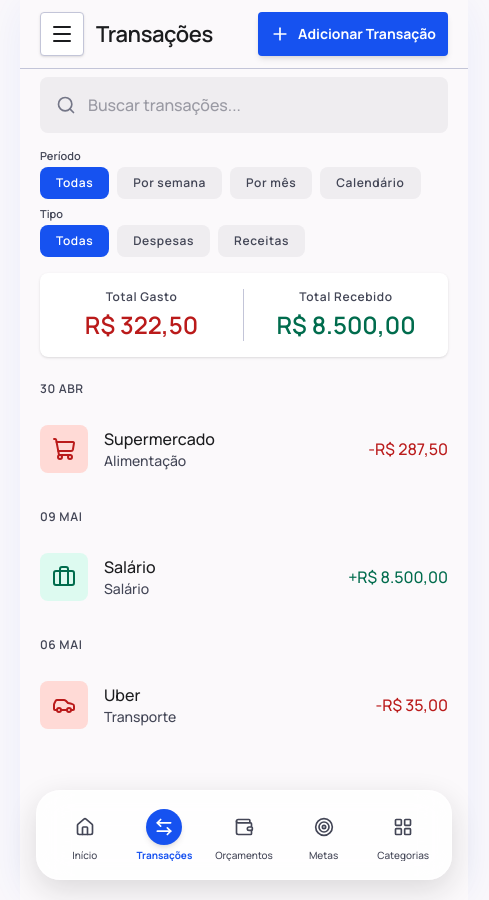
Test case: TransacoesClient › filtra transações localmente pelo nome ignorando acentos
In the field with placeholder "Buscar transações...": [244, 105] box [40,77,448,133], type "salario"
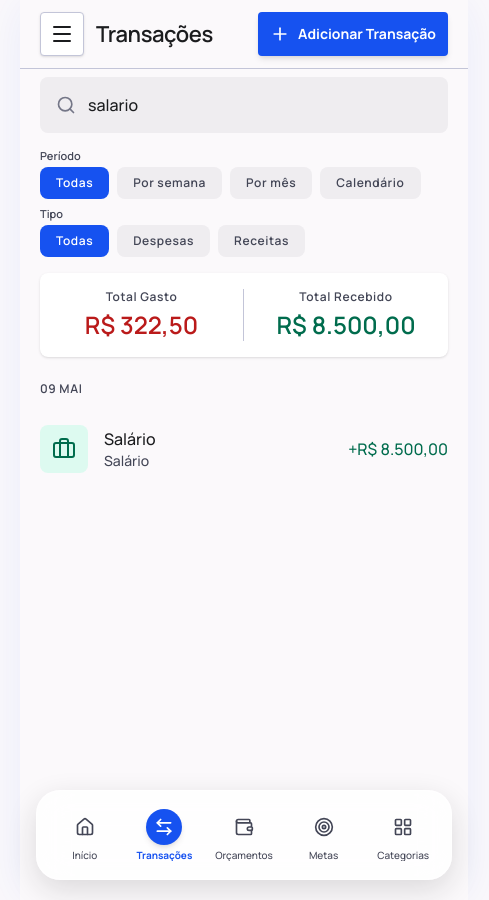
Expected: the button "Supermercado" is gone
Expected: the button "Uber" is gone
